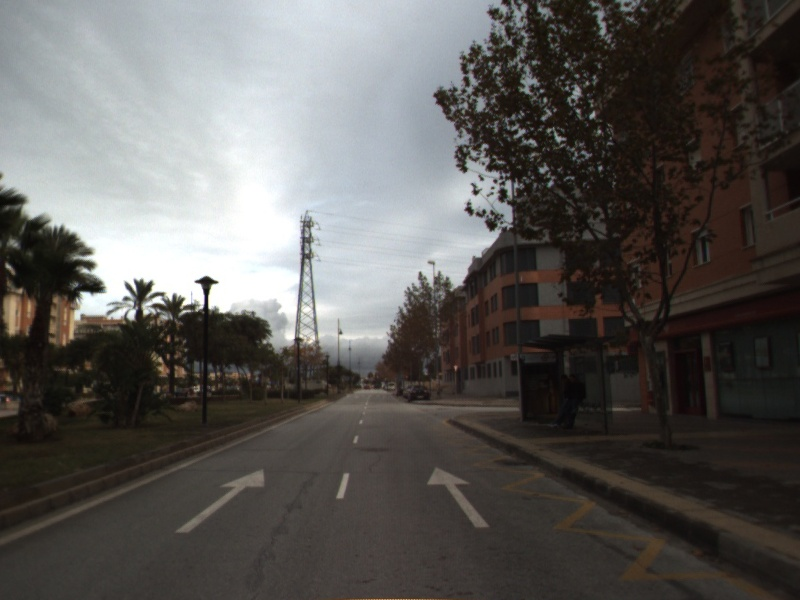STRAIGHT: (174, 467, 266, 535), (425, 465, 491, 529)
